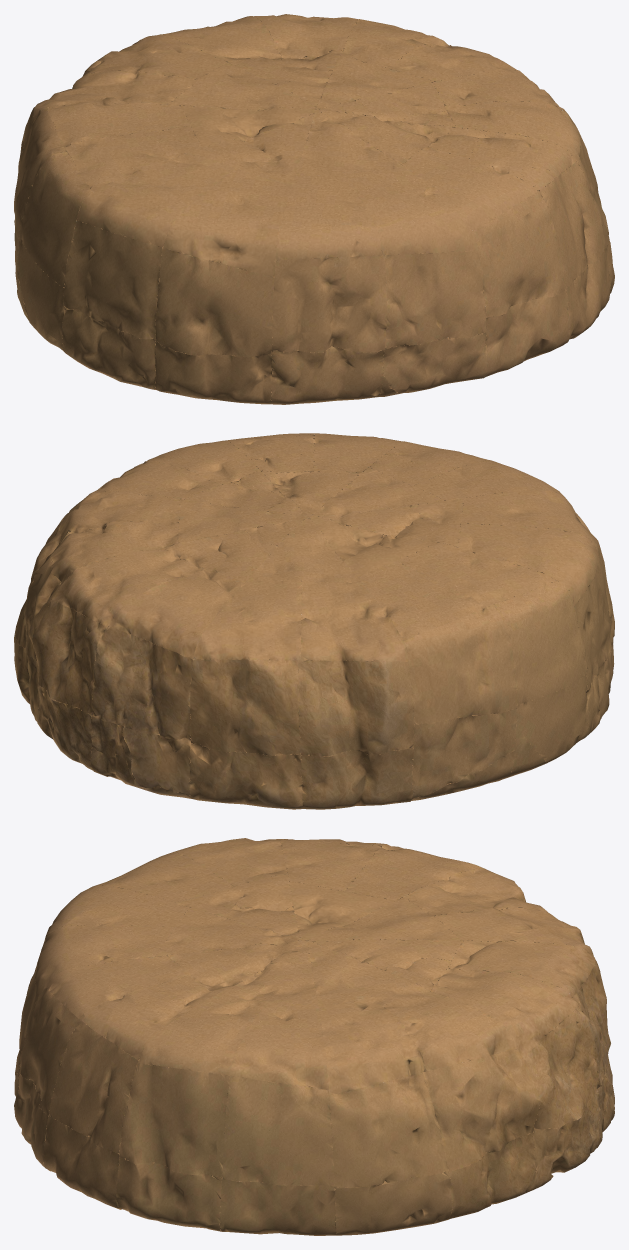
File: boulder_cluster.glb
The picture shows the model from 3 angles, top to bottom: view 1: azimuth 30°, elevation 25°; view 2: azimuth 150°, elevation 25°; view 3: azimuth 270°, elevation 25°; orthographic projection. The views are drawn at different scales.
Parts seen in each view (by area): view 1: boulder_cluster; view 2: boulder_cluster; view 3: boulder_cluster.
Boxes of the visible parts, <box> form: boulder_cluster: <box>14,14,614,404</box>; boulder_cluster: <box>14,433,614,809</box>; boulder_cluster: <box>14,838,614,1235</box>.
Size of the model in its own units: 1.9 by 0.6058 by 1.88.
Materials: 1 (1 with a texture image).
